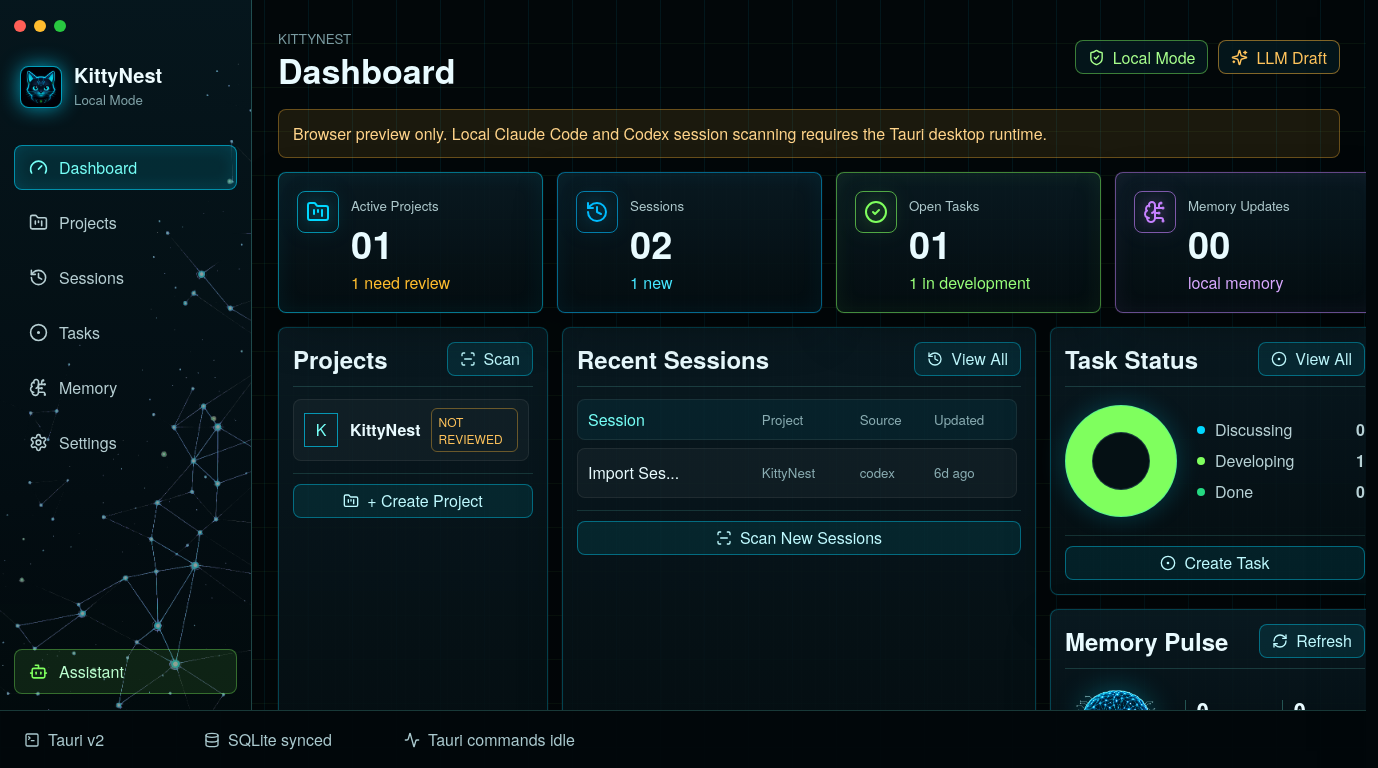
Scenario: KittyNest dashboard › renders project/session state and queues manual scan
The width and height of the screenshot is (1378, 768).
Expected: the heading "Dashboard" is shown, [278, 53, 456, 89]
Expected: the text "Active Projects" is shown, [351, 196, 439, 215]
Click the button "Scan New Sessions": (799, 538) [577, 521, 1021, 555]
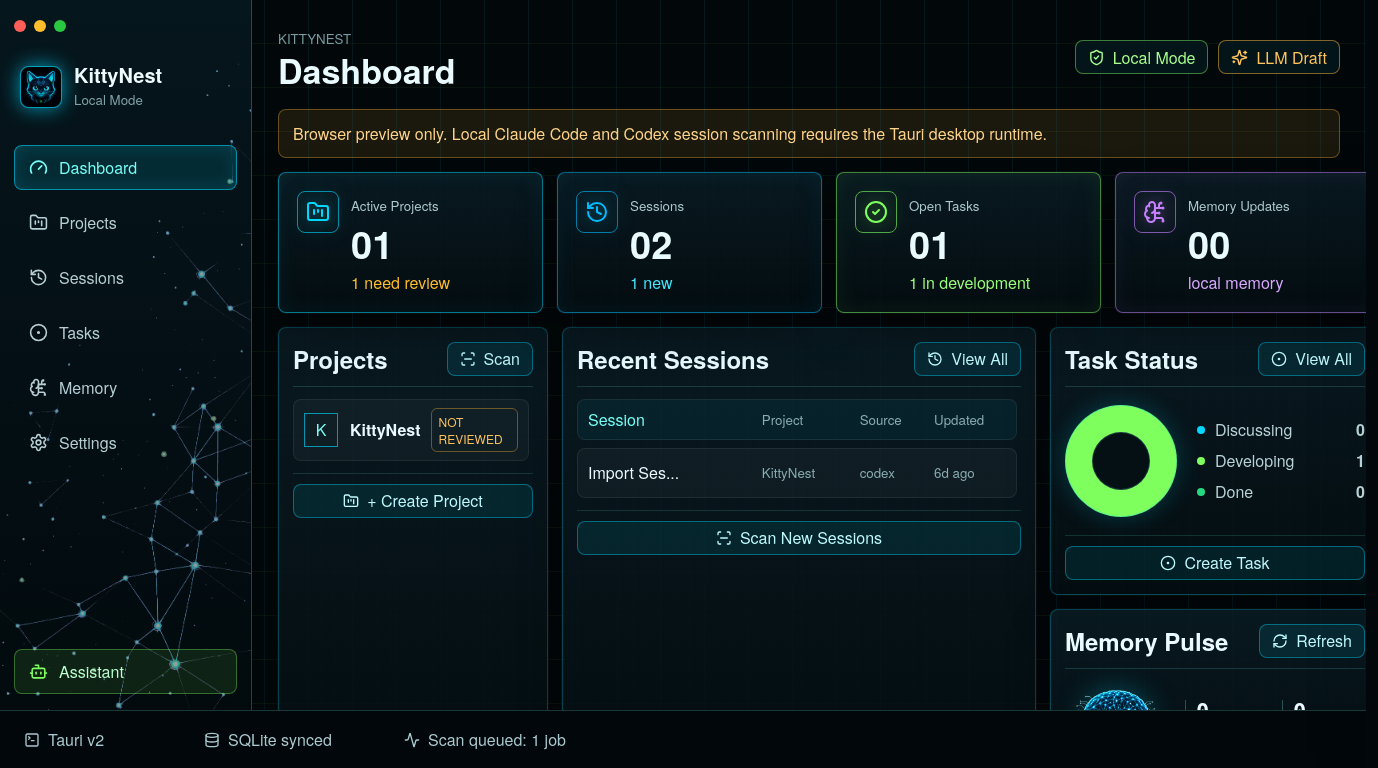
Expected: the text "Scan queued: 1 job" is shown, [404, 728, 566, 751]
